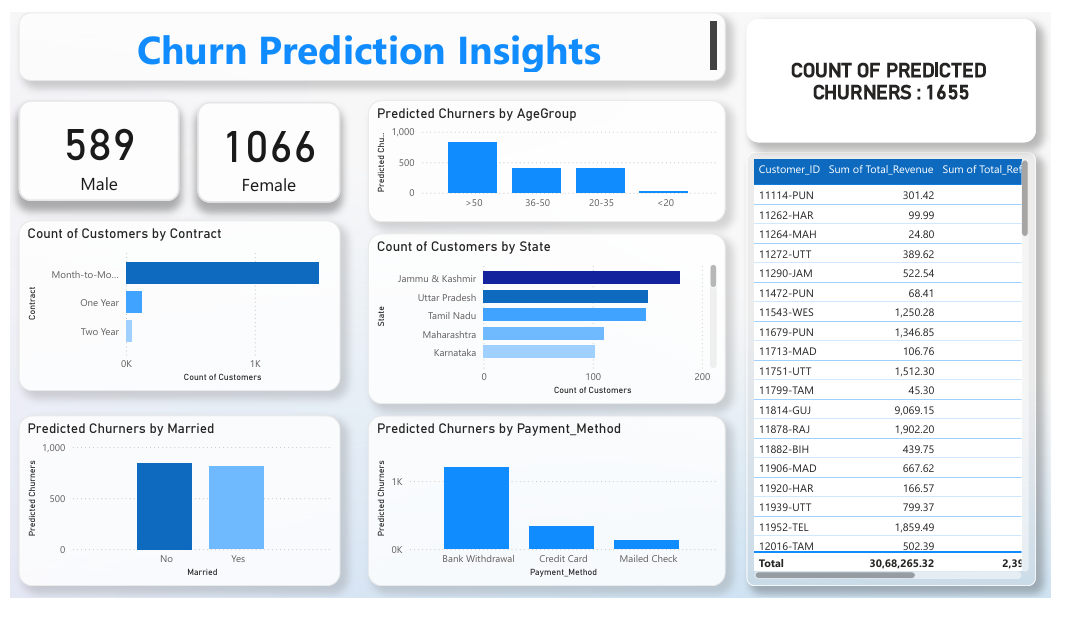

The page's visual inventory and layout, read from the dashboard file:
{"tool":"powerbi","page":{"name":"Prediction","canvas":[1280,720],"ordinal":1},"visuals":[{"type":"tableEx","fields":{"Values":["Predictions.Customer_ID","Sum(Predictions.Total_Revenue)","Sum(Predictions.Total_Refunds)","Sum(Predictions.Number_of_Referrals)"]},"box":[906,172,356,534],"z":0},{"type":"card","fields":{"Values":["TBL_Measure.Title Predicted Churners"]},"box":[906,8,356,152],"z":1000},{"type":"card","fields":{"Values":["TBL_Measure.Count Predicted Churner"]},"box":[230,110,176,124],"z":2000},{"type":"card","fields":{"Values":["TBL_Measure.Count Predicted Churner"]},"box":[10,108,198,124],"z":3000},{"type":"clusteredColumnChart","fields":{"Category":["mapping_AgeGrp.AgeGroup"],"Y":["Count(Predictions.Customer_ID)"]},"box":[440,108,440,150],"z":4000},{"type":"clusteredColumnChart","fields":{"Category":["Predictions.Married"],"Y":["Count(Predictions.Customer_ID)"]},"box":[10,496,396,210],"z":5000},{"type":"clusteredColumnChart","fields":{"Y":["Count(Predictions.Customer_ID)"],"Category":["Predictions.Payment_Method"]},"box":[440,496,440,210],"z":6000},{"type":"clusteredBarChart","fields":{"Category":["Predictions.Contract"],"Y":["Count(Predictions.Customer_ID)"]},"box":[10,256,396,210],"z":7000},{"type":"clusteredBarChart","fields":{"Y":["Count(Predictions.Customer_ID)"],"Category":["Predictions.State"]},"box":[440,272,440,210],"z":8000},{"type":"textbox","box":[10,0,870,84],"z":9000}]}

Visuals, with their boxes in screenshot pixels (x1, y1, x2, y2), scaled from the page's 1280x720 canvas onto the 1068x617 screenshot:
tableEx - Predictions.Customer_ID x Sum(Predictions.Total_Revenue): [left=756, top=147, right=1053, bottom=605]
card - TBL_Measure.Title Predicted Churners: [left=756, top=7, right=1053, bottom=137]
card - TBL_Measure.Count Predicted Churner: [left=192, top=94, right=339, bottom=201]
card - TBL_Measure.Count Predicted Churner: [left=8, top=93, right=174, bottom=199]
clusteredColumnChart - mapping_AgeGrp.AgeGroup x Count(Predictions.Customer_ID): [left=367, top=93, right=734, bottom=221]
clusteredColumnChart - Predictions.Married x Count(Predictions.Customer_ID): [left=8, top=425, right=339, bottom=605]
clusteredColumnChart - Count(Predictions.Customer_ID) x Predictions.Payment_Method: [left=367, top=425, right=734, bottom=605]
clusteredBarChart - Predictions.Contract x Count(Predictions.Customer_ID): [left=8, top=219, right=339, bottom=399]
clusteredBarChart - Count(Predictions.Customer_ID) x Predictions.State: [left=367, top=233, right=734, bottom=413]
textbox: [left=8, top=0, right=734, bottom=72]
